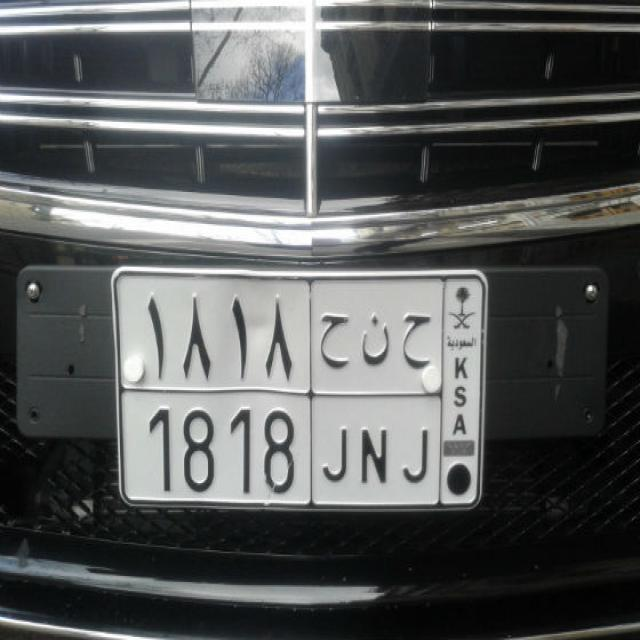license_plate: (116, 389, 443, 511)
